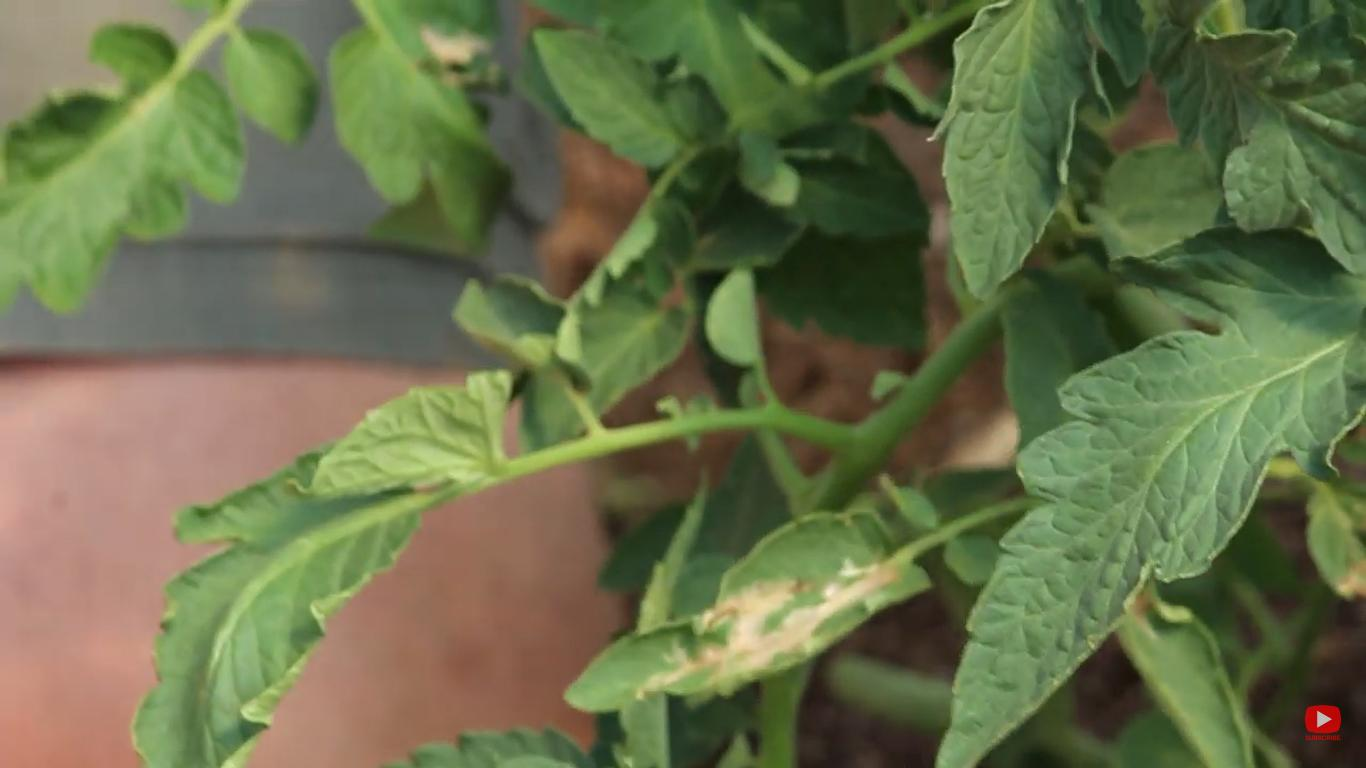Healthy: (930, 228, 1366, 768), (926, 0, 1126, 308)
Leaf_Miner: (568, 508, 936, 726)
